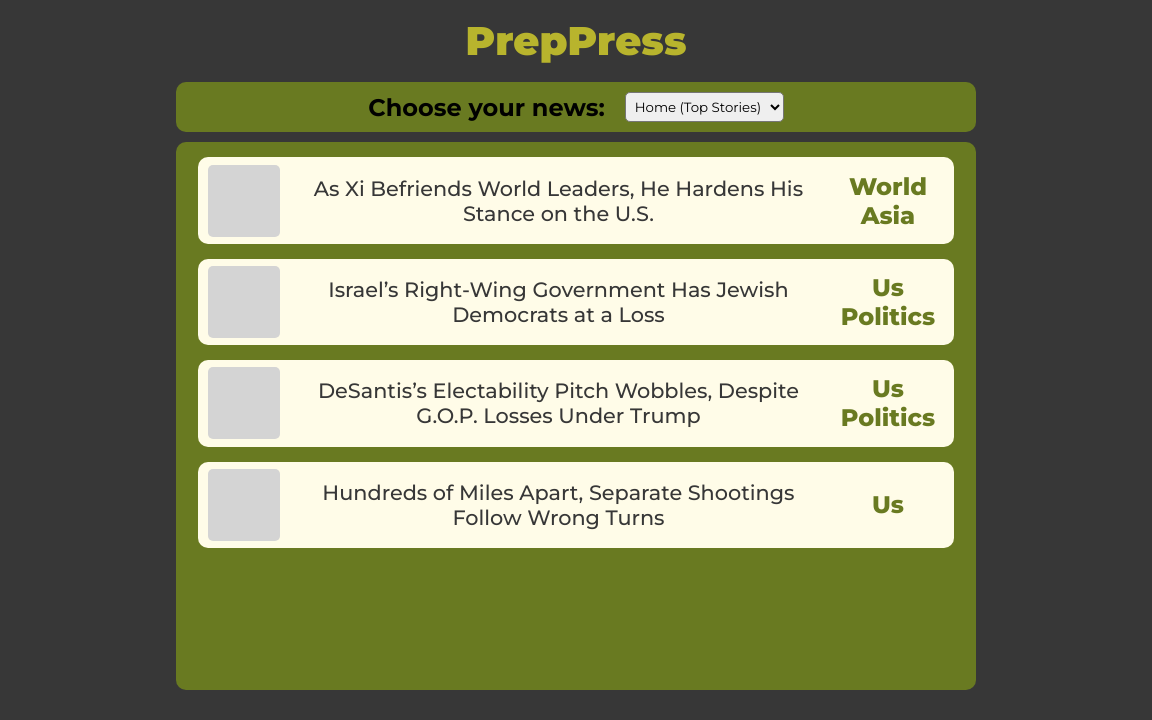
Test case: home › should display the article details to a user
What coordinates should you click on to do the following:
click the 1st heading with class "tile-title"
I would click on:
 (559, 201)
Its box is [285, 176, 832, 226].
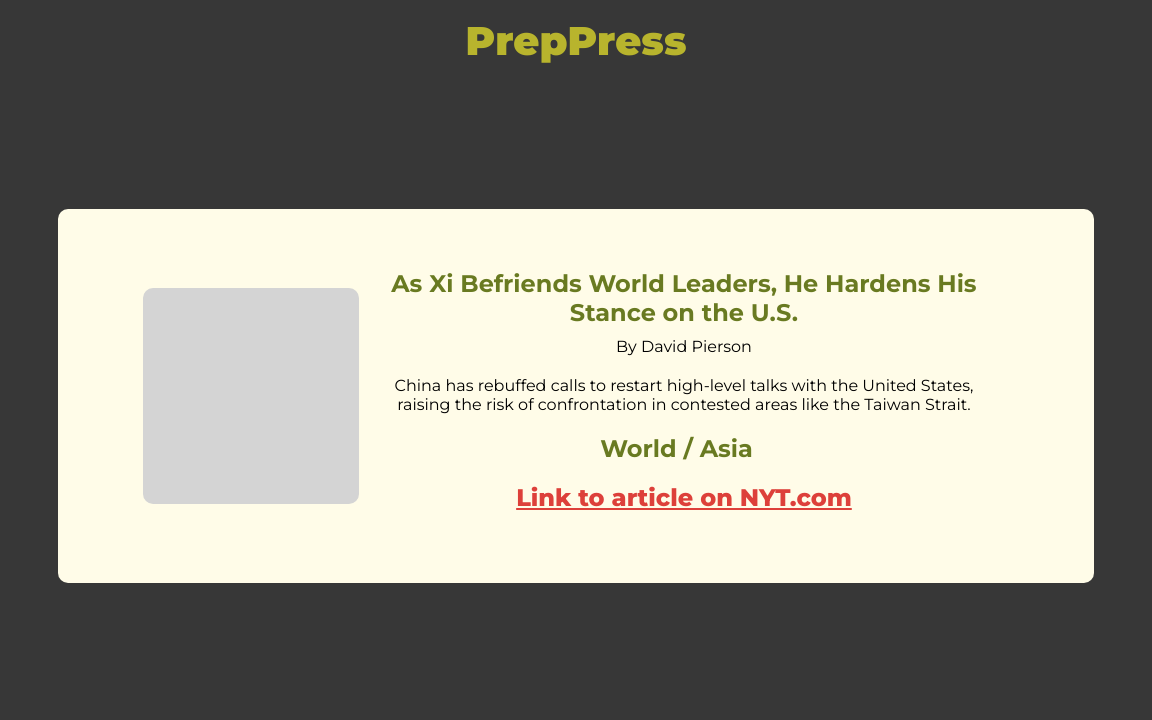
Now the text "David" is shown, box [616, 337, 752, 356]
Now the text "China" is shown, box [395, 376, 974, 414]
Now the text "World / Asia" is shown, box [600, 434, 753, 464]
